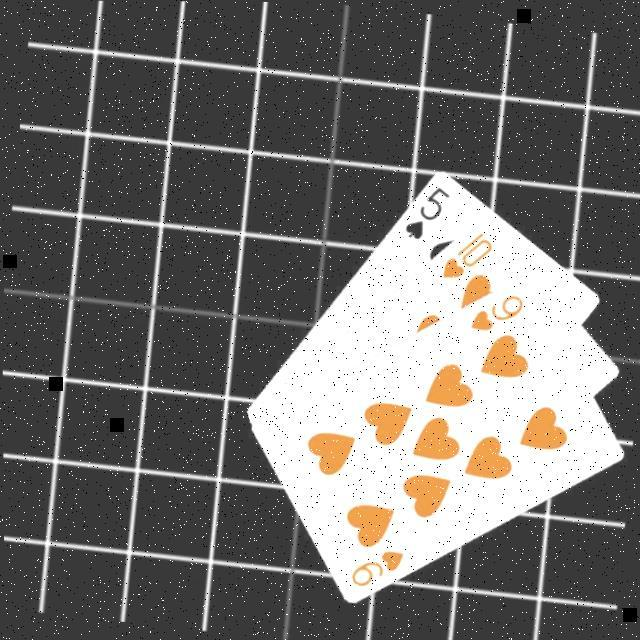10H: (439, 222, 499, 283)
5S: (400, 176, 454, 243)
9H: (348, 538, 408, 592), (468, 283, 530, 335)
